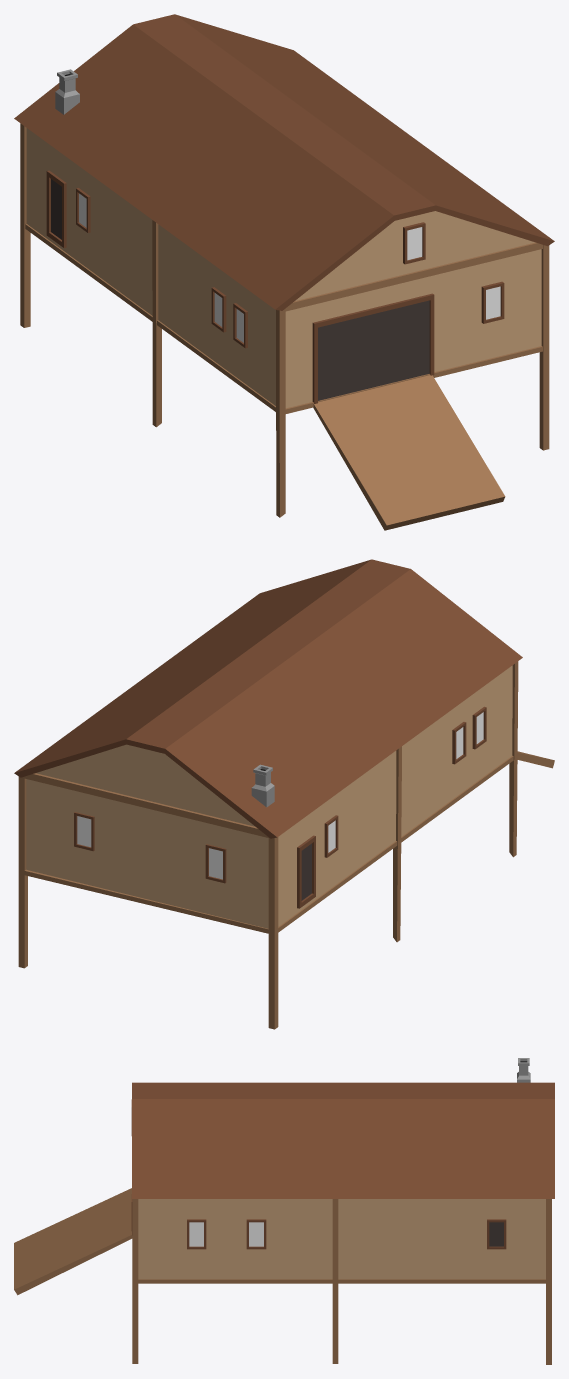
Rendered from M_DockHouse_Building_0.fbx.
The picture shows the model from 3 angles, top to bottom: view 1: azimuth 30°, elevation 25°; view 2: azimuth 150°, elevation 25°; view 3: azimuth 270°, elevation 25°; orthographic projection. The views are drawn at different scales.
Parts seen in each view (by area): view 1: M_DockHouse_Building_0; view 2: M_DockHouse_Building_0; view 3: M_DockHouse_Building_0.
Boxes of the visible parts, left/top/right/bottom form: M_DockHouse_Building_0: left=14, top=14, right=554, bottom=530; M_DockHouse_Building_0: left=14, top=559, right=554, bottom=1029; M_DockHouse_Building_0: left=14, top=1058, right=554, bottom=1364.
Bounding box in the file's own units: 870 × 819 × 1799.
